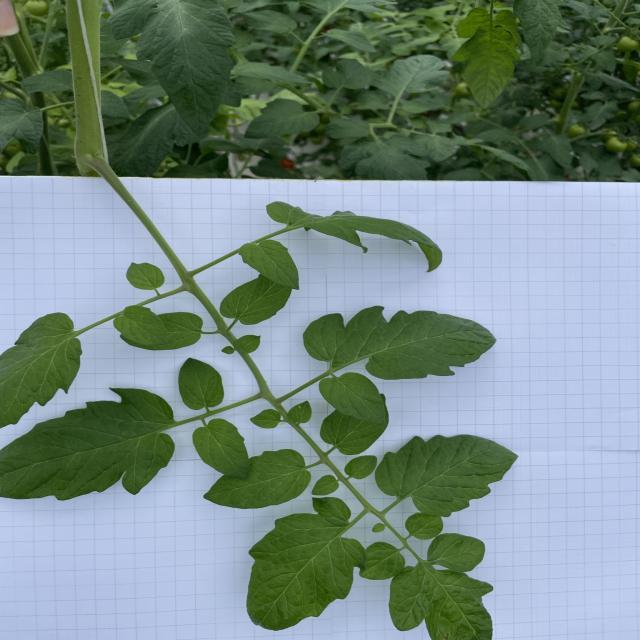Tomato healthy leaf: (0, 386, 175, 501), (104, 0, 237, 137), (244, 496, 366, 632), (264, 194, 446, 275), (301, 306, 498, 380), (385, 531, 509, 640), (374, 434, 524, 518), (0, 310, 86, 430), (104, 98, 210, 178), (448, 5, 524, 110), (202, 447, 310, 510), (320, 392, 390, 456), (218, 271, 294, 325), (190, 417, 254, 480), (318, 371, 388, 427), (370, 54, 450, 100), (242, 96, 322, 140), (118, 312, 204, 352), (512, 0, 562, 68), (237, 238, 301, 290), (177, 354, 226, 412), (114, 305, 170, 347), (231, 59, 314, 85), (319, 57, 377, 91), (359, 540, 407, 580), (319, 25, 377, 53), (241, 9, 301, 36), (22, 68, 73, 94), (405, 510, 445, 540), (126, 261, 165, 291), (426, 134, 456, 162), (344, 454, 378, 478), (312, 473, 340, 497), (250, 408, 282, 429), (286, 400, 312, 424), (234, 334, 262, 354)
